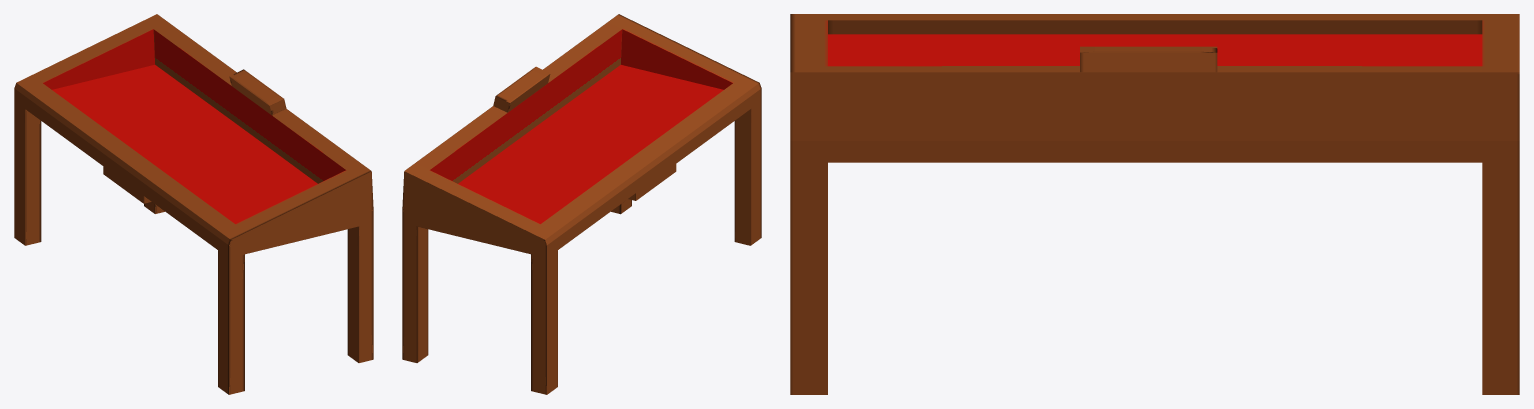
The model's file is Stand.fbx.
3 renders of one model, left to right at view 1: azimuth 30°, elevation 25°; view 2: azimuth 150°, elevation 25°; view 3: azimuth 270°, elevation 25°, orthographic. The views are drawn at different scales.
Parts seen in each view (by area): view 1: Cube; view 2: Cube; view 3: Cube.
Boxes of the visible parts, <box> form: Cube: <box>14,14,373,394</box>; Cube: <box>402,14,761,394</box>; Cube: <box>790,14,1519,394</box>.
Size of the model in its own units: 200 by 264 by 514.
Materials: 1 (1 with a texture image).
